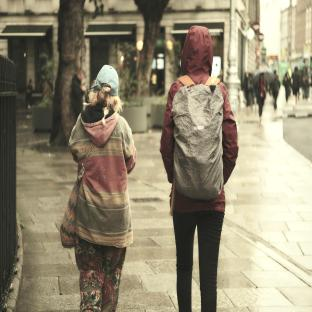Human: (160, 26, 238, 312), (69, 65, 136, 312)
